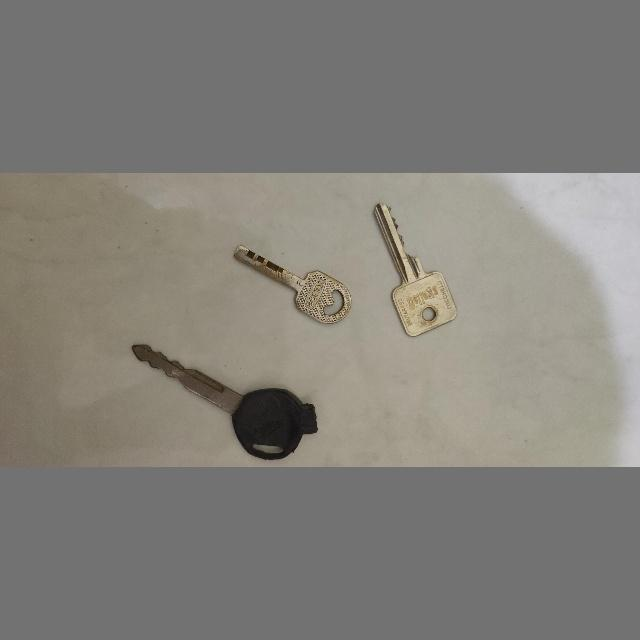Keys: (127, 339, 321, 461), (365, 198, 467, 342), (232, 244, 354, 332)
